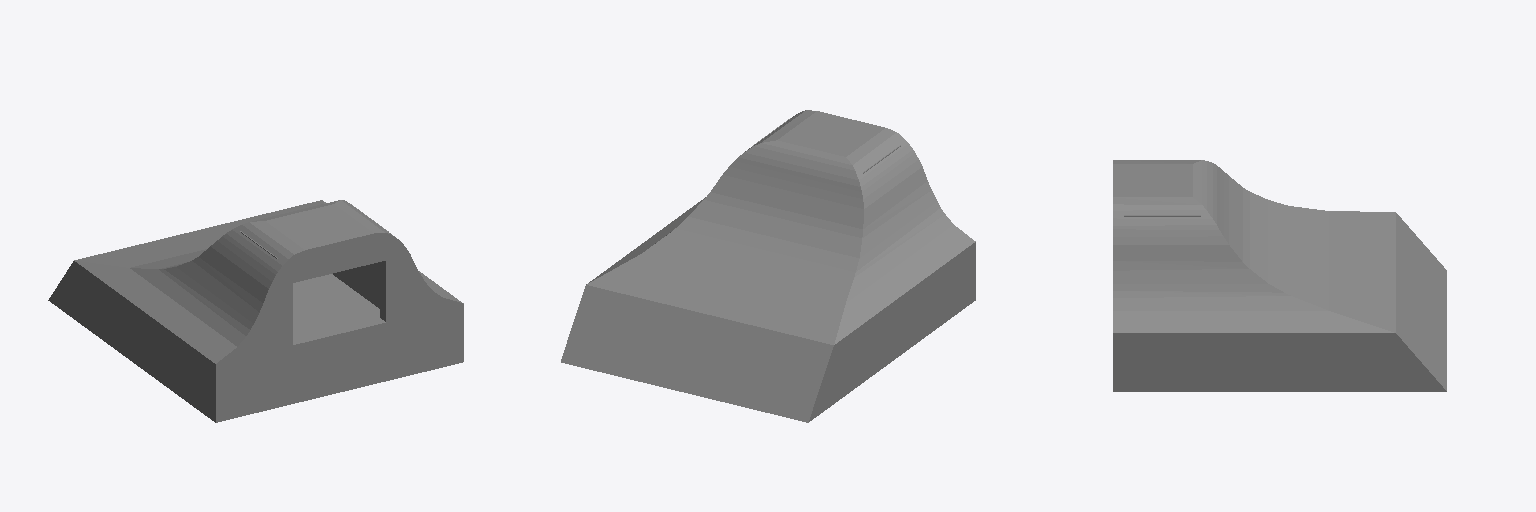
Rendered from Mine.obj.
3 renders of one model, left to right at view 1: azimuth 30°, elevation 25°; view 2: azimuth 150°, elevation 25°; view 3: azimuth 270°, elevation 25°, orthographic.
Parts seen in each view (by area): view 1: Box048; view 2: Box048; view 3: Box048.
Boxes of the visible parts, x1=… form: Box048: x1=48, y1=200, x2=463, y2=422; Box048: x1=561, y1=110, x2=975, y2=422; Box048: x1=1113, y1=160, x2=1446, y2=391.
Size of the model in its own units: 529 by 307 by 618.